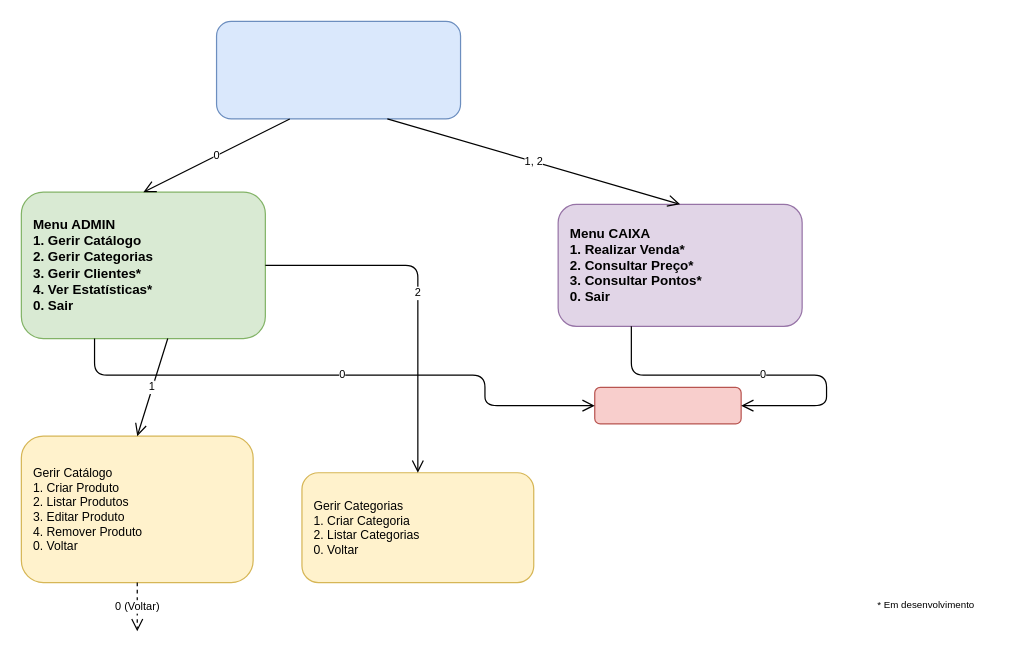
Image size: 1031x665. Some labels were removed from this diagram. The shapes that lost their labels are listed below. From the top down, each one's centre as x and y in pixels, then its label:
the point at 338,69: Menu Principal 0. ADMIN 1. CAIXA: Caixa 1 2. CAIXA: Caixa 2
the point at 667,405: Menu Principal
